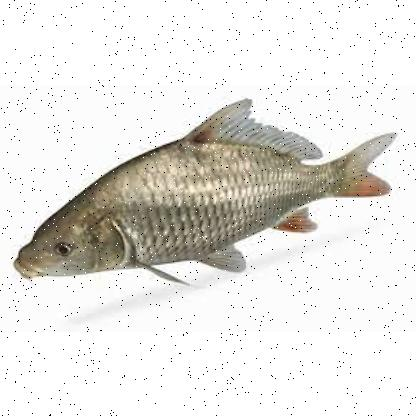ikan-mas: (9, 99, 394, 290)
